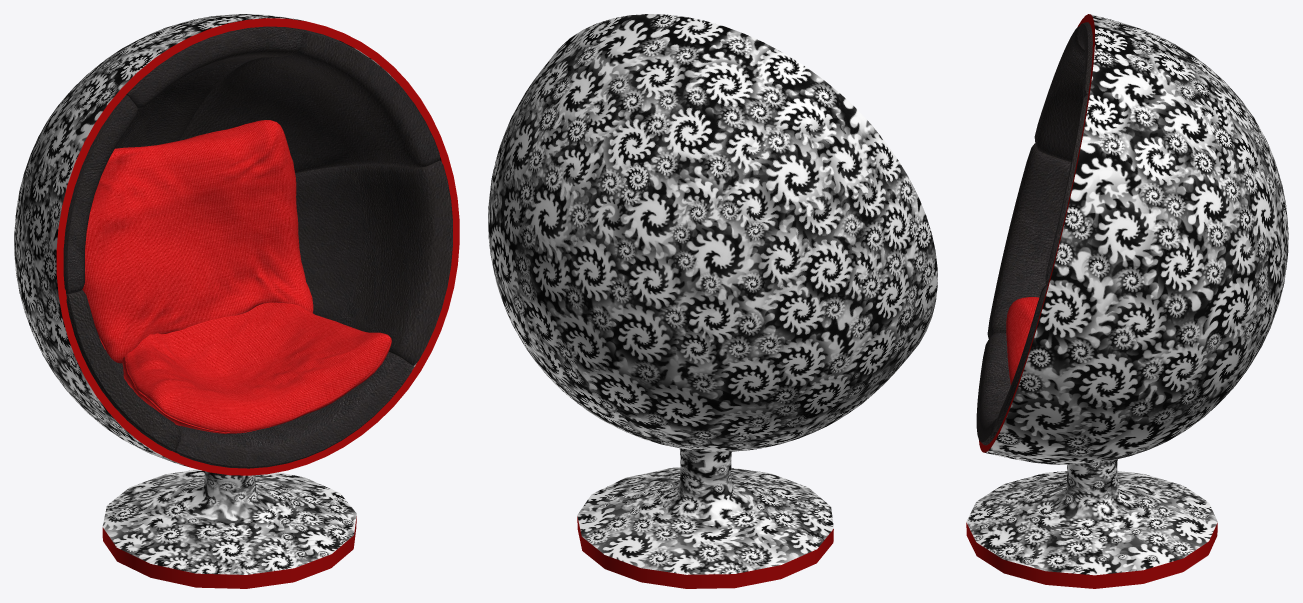
File: ball-chair.obj
3 views of the same model, side by side, from view 1: azimuth 30°, elevation 25°; view 2: azimuth 150°, elevation 25°; view 3: azimuth 270°, elevation 25° (orthographic). The views are drawn at different scales.
Parts seen in each view (by area): view 1: padding, pillow_top, shell, pillow_bottom, shell_trim; view 2: shell, shell_trim; view 3: shell, padding, shell_trim, pillow_bottom.
Boxes of the visible parts, left/top/right/bottom form: padding: left=63, top=26, right=452, bottom=468; pillow_top: left=82, top=120, right=313, bottom=363; shell: left=14, top=14, right=441, bottom=574; pillow_bottom: left=122, top=302, right=391, bottom=433; shell_trim: left=56, top=18, right=459, bottom=588; shell: left=488, top=14, right=937, bottom=574; shell_trim: left=577, top=516, right=833, bottom=588; shell: left=966, top=14, right=1288, bottom=575; padding: left=976, top=22, right=1092, bottom=445; shell_trim: left=966, top=14, right=1217, bottom=588; pillow_bottom: left=1006, top=297, right=1039, bottom=384.
Bounding box in the file's own units: 0.6703 × 0.8246 × 0.4793.
4 materials, 4 textured.
